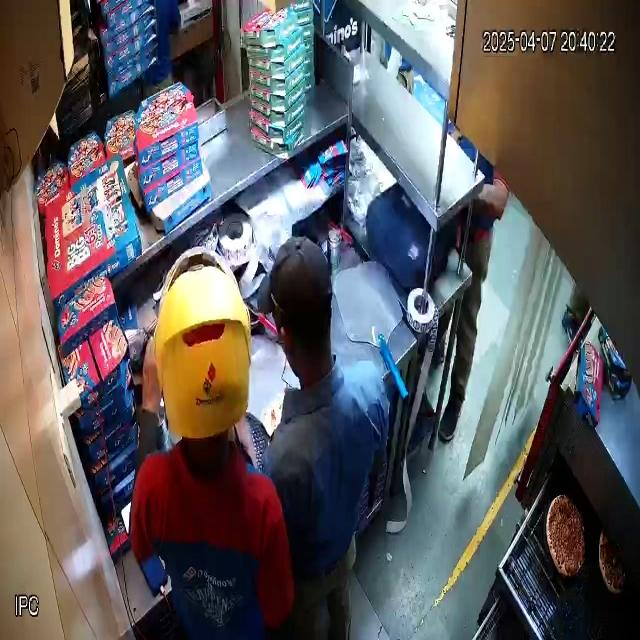helmet: (153, 246, 252, 479)
no_helmet: (256, 237, 333, 388)
